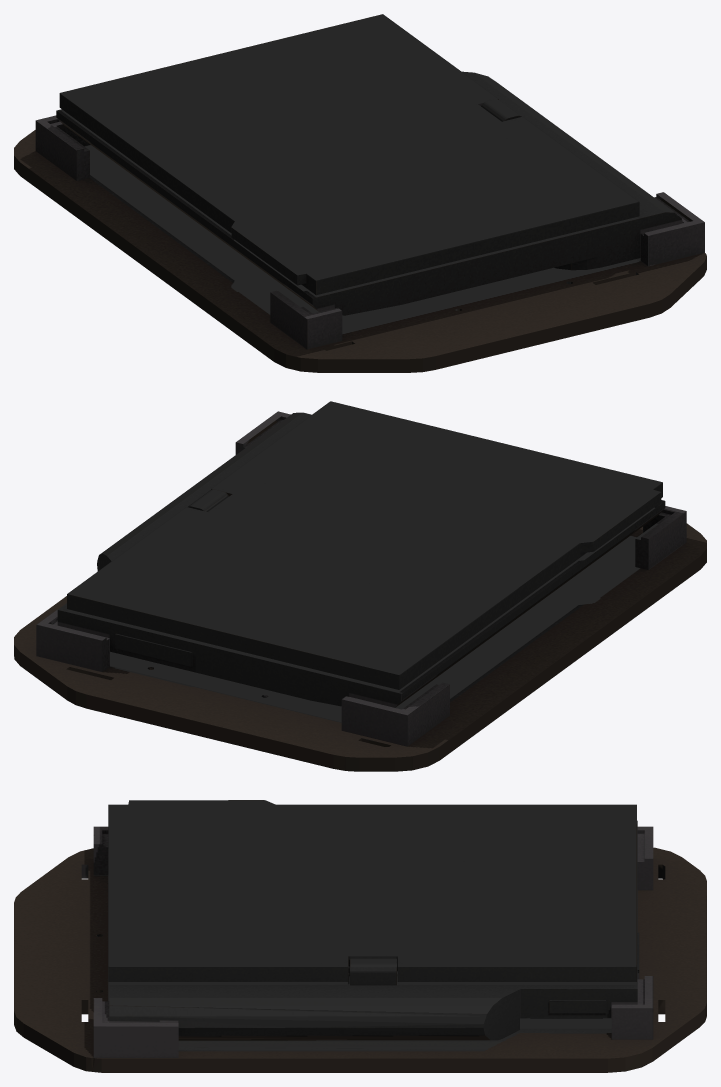
The model's file is plate_top.dae.
3 views of the same model, one above another, from view 1: azimuth 30°, elevation 25°; view 2: azimuth 150°, elevation 25°; view 3: azimuth 270°, elevation 25° (orthographic). The views are drawn at different scales.
Parts seen in each view (by area): view 1: Mesh_001; view 2: Mesh_001; view 3: Mesh_001.
Part boxes in pixels (x1,y1,x2,y2): Mesh_001: (14, 14, 706, 372); Mesh_001: (14, 401, 706, 771); Mesh_001: (14, 800, 706, 1072).
Size of the model in its own units: 0.29 by 0.4 by 0.049.
Materials: 1 (1 with a texture image).
